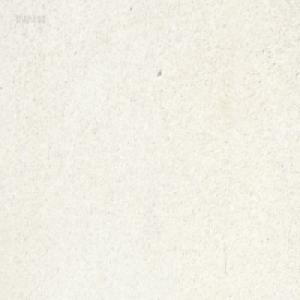Wrench: (202, 0, 209, 5)
